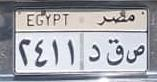1: (65, 39, 76, 65), (51, 38, 59, 66)
2: (17, 39, 33, 66)
4: (34, 38, 47, 68)
daal: (88, 42, 102, 62)
qaaf: (106, 38, 123, 66)
saad: (125, 43, 146, 65)
